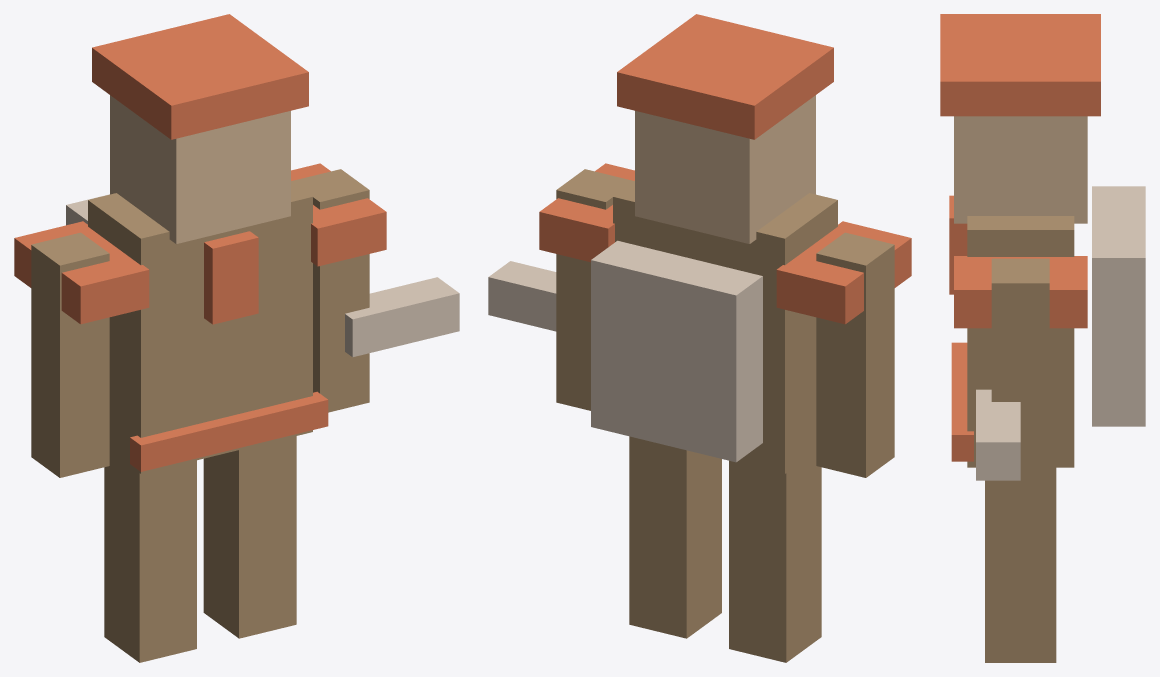
File: 13_selka_tideforged_herald_of_bitewheel.glb
3 renders of one model, left to right at view 1: azimuth 30°, elevation 25°; view 2: azimuth 150°, elevation 25°; view 3: azimuth 270°, elevation 25°, orthographic.
Parts seen in each view (by area): view 1: Selka Tideforged, Herald of Bitewheel; view 2: Selka Tideforged, Herald of Bitewheel; view 3: Selka Tideforged, Herald of Bitewheel.
Part boxes in pixels (x1,y1,x2,y2): Selka Tideforged, Herald of Bitewheel: (14,14,459,662); Selka Tideforged, Herald of Bitewheel: (488,14,911,662); Selka Tideforged, Herald of Bitewheel: (940,14,1145,662).
Bounding box in the file's own units: 1.07 × 1.49 × 0.4813.
